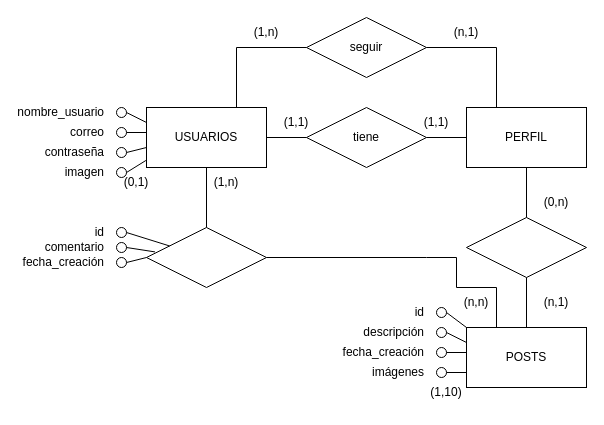
Some shapes in this 604 by 425 pixel diagram are drawn without their labels. The shapes that lost their labels are listed below. From the top down, each one's centre as x and y in pixels, then its label:
At pixel 206 257: "comentar".
At pixel 526 247: "subir".
